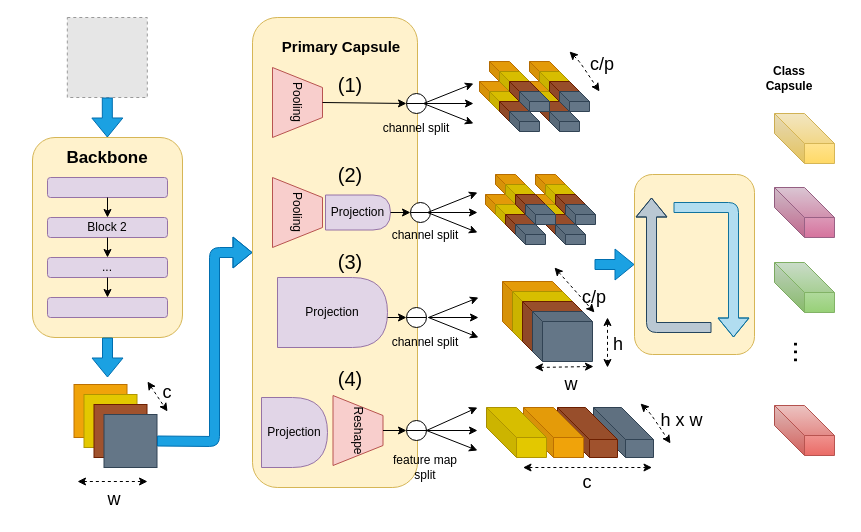
Image size: 861x532. Some labels were removed from this diagram. Grey dashed boxes stand in for pictures. Each missing label, with the box of its shape:
Adaptive Routing layer: (634, 174, 754, 354)
Block 1: (46, 176, 168, 198)
Block n: (46, 296, 168, 318)
